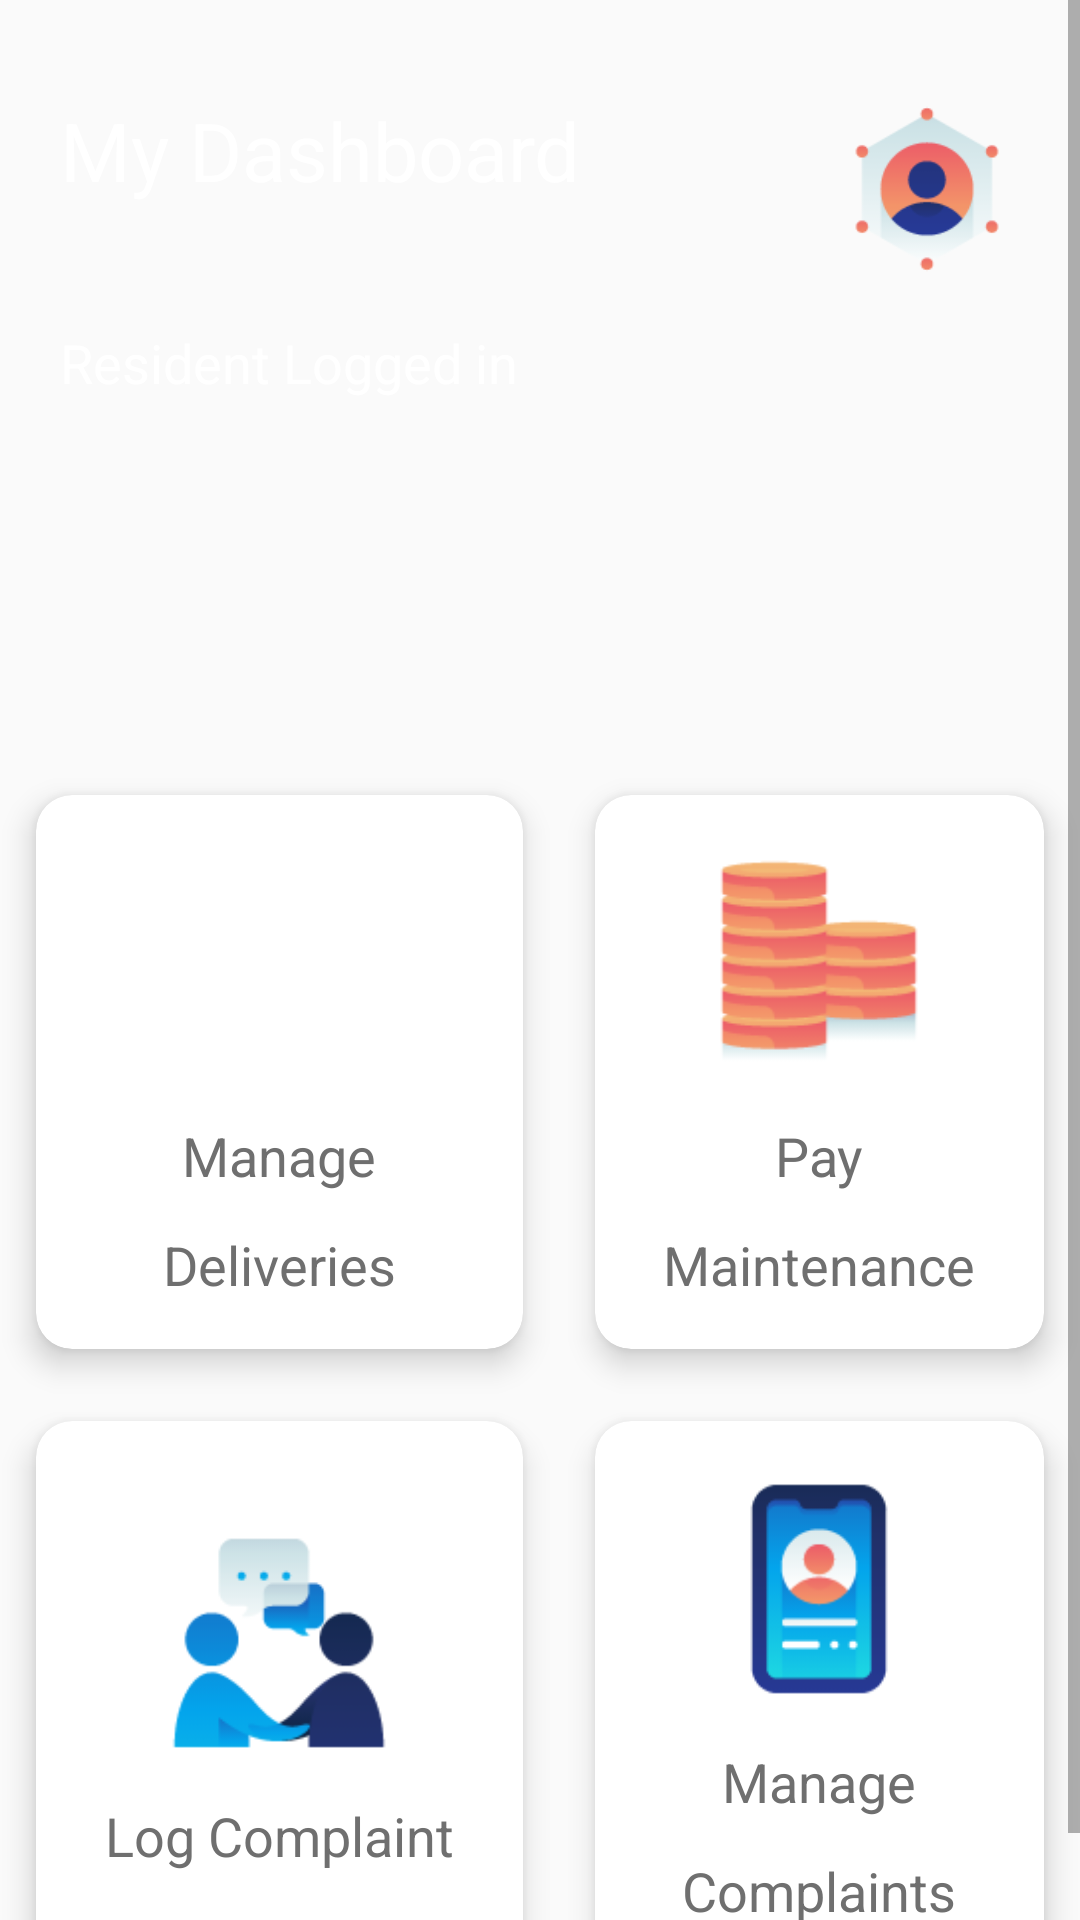

Screen size 1080px×1920px. Icon name, then its box in pixels as (x1, y1, x2, y2):
coins: (721, 861, 917, 1052)
complaints: (173, 1539, 385, 1748)
phone: (750, 1484, 888, 1694)
resident: (855, 108, 999, 270)
